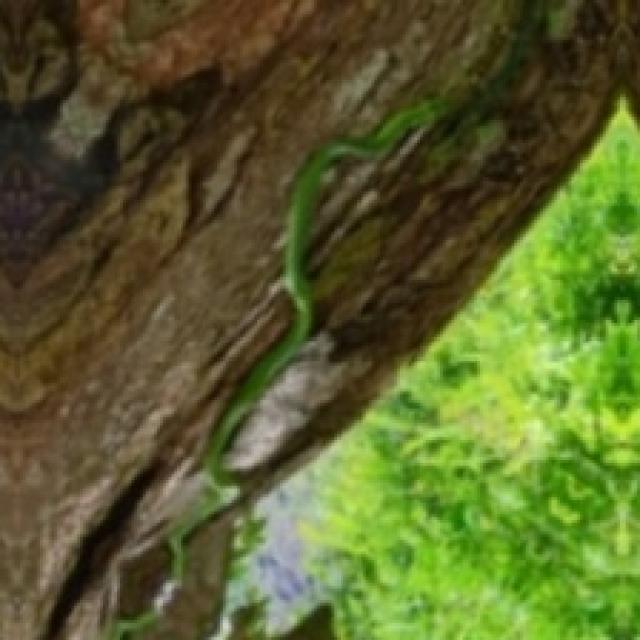red-tailed green ratsnake: (169, 101, 443, 569)
